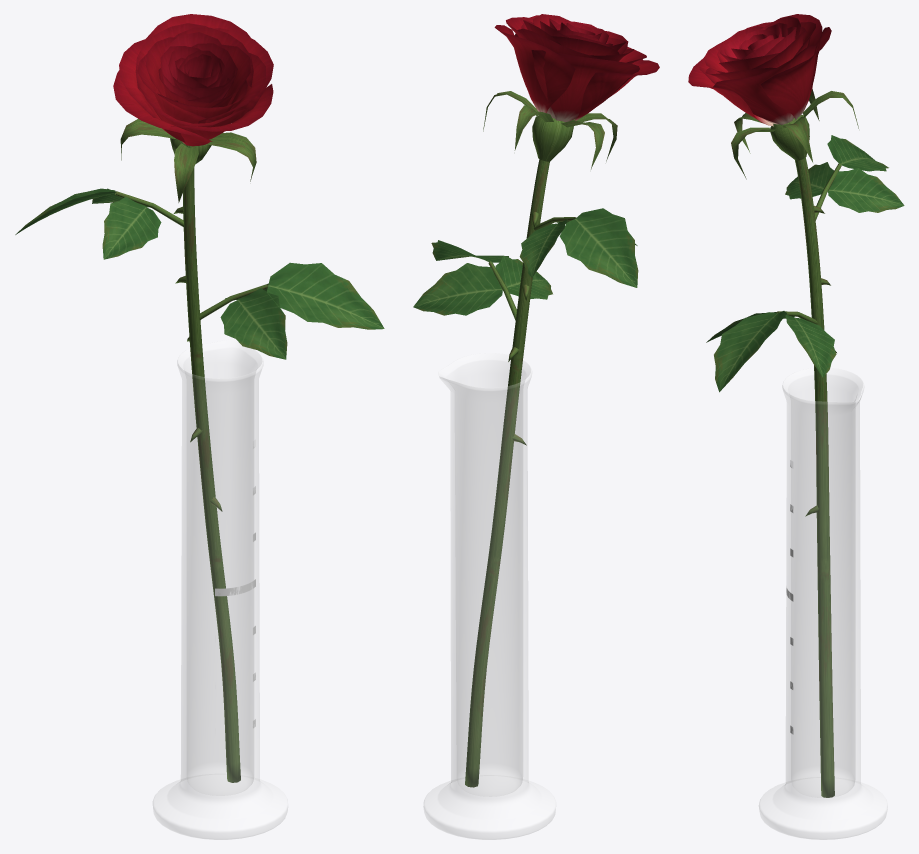
Rendered from rose.glb.
The picture shows the model from 3 angles, left to right: view 1: azimuth 30°, elevation 25°; view 2: azimuth 150°, elevation 25°; view 3: azimuth 270°, elevation 25°; orthographic projection. The views are drawn at different scales.
Parts seen in each view (by area): view 1: holder, stem, head; view 2: holder, stem, head; view 3: holder, stem, head.
Boxes of the visible parts, x1=… form: holder: x1=153, y1=339, x2=287, y2=839; stem: x1=15, y1=167, x2=384, y2=782; head: x1=113, y1=14, x2=273, y2=202; holder: x1=423, y1=353, x2=555, y2=839; stem: x1=413, y1=159, x2=638, y2=787; head: x1=483, y1=14, x2=659, y2=169; holder: x1=759, y1=368, x2=887, y2=839; stem: x1=706, y1=135, x2=904, y2=797; head: x1=688, y1=14, x2=858, y2=179.
Size of the model in its own units: 0.1338 by 0.3567 by 0.0916.
3 materials, 2 textured.
